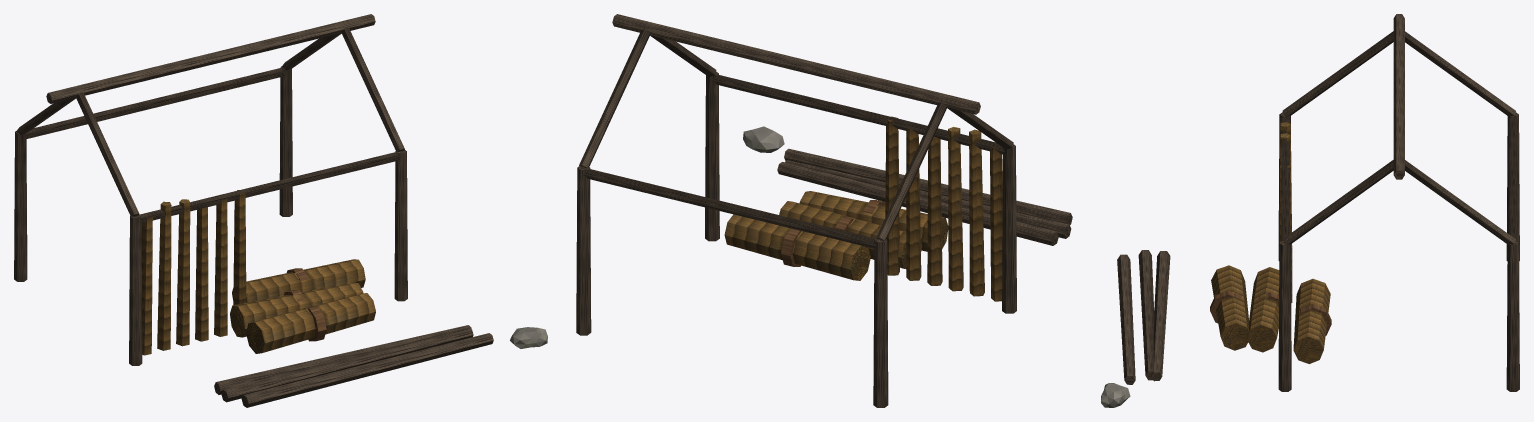
File: cantiere_capanno_pesca.glb
The picture shows the model from 3 angles, left to right: view 1: azimuth 30°, elevation 25°; view 2: azimuth 150°, elevation 25°; view 3: azimuth 270°, elevation 25°; orthographic projection. The views are drawn at different scales.
Visible parts, largest first — view 1: cantiere_capanno_pesca; view 2: cantiere_capanno_pesca; view 3: cantiere_capanno_pesca.
Boxes of the visible parts, x1,y1,x2,y2 form: cantiere_capanno_pesca: [14, 14, 547, 407]; cantiere_capanno_pesca: [576, 14, 1072, 407]; cantiere_capanno_pesca: [1101, 14, 1519, 407].
Size of the model in its own units: 4.25 by 2.7 by 4.41.
4 materials, 4 textured.
